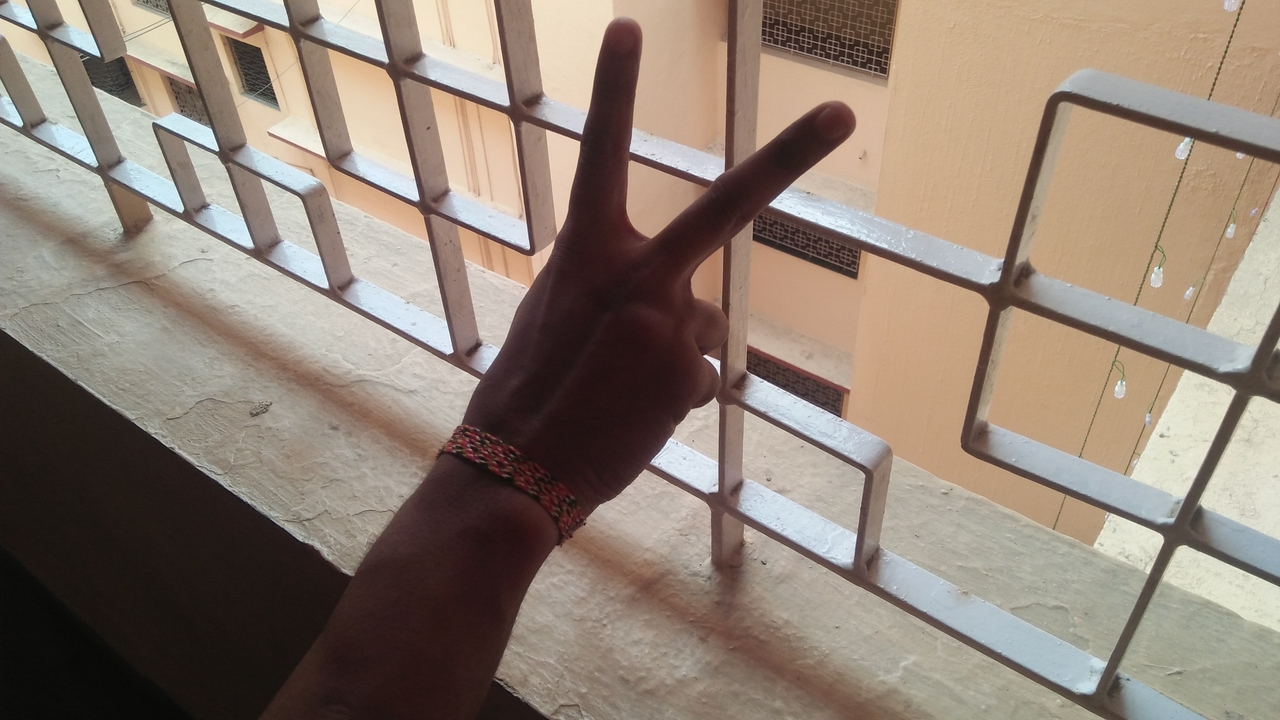fingertip: (800, 96, 858, 142), (598, 10, 644, 56)
